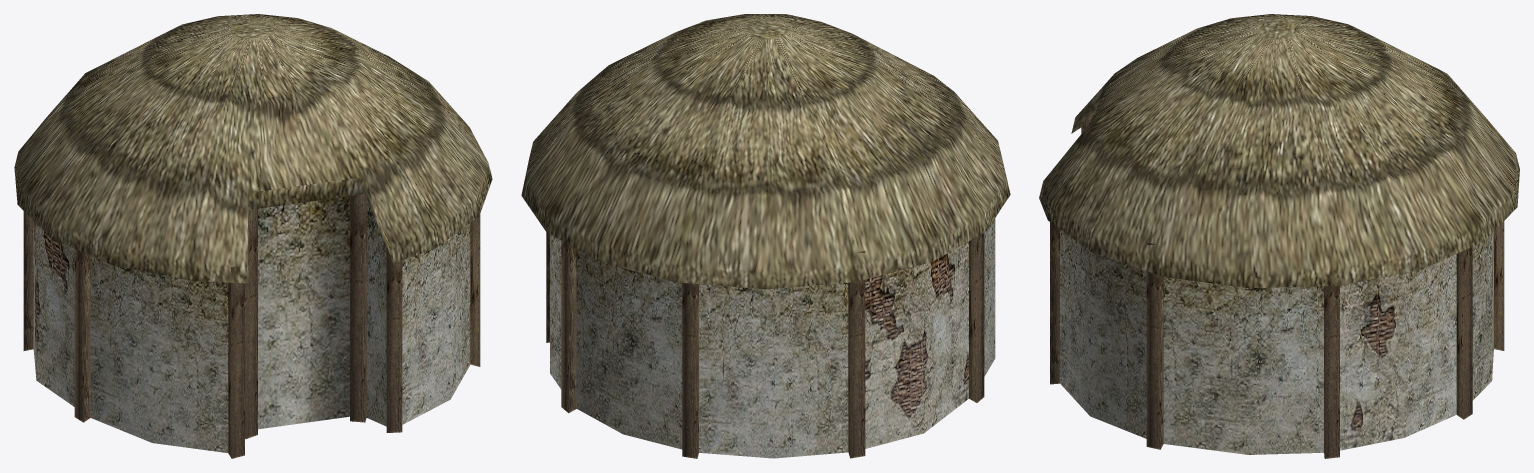
The model's file is celt_hut.dae.
3 views of the same model, side by side, from view 1: azimuth 30°, elevation 25°; view 2: azimuth 150°, elevation 25°; view 3: azimuth 270°, elevation 25° (orthographic). The views are drawn at different scales.
Visible parts, largest first — view 1: hut-Pivot; view 2: hut-Pivot; view 3: hut-Pivot.
Boxes of the visible parts, bbox=[...] form: hut-Pivot: bbox=[14, 14, 492, 458]; hut-Pivot: bbox=[521, 14, 1010, 458]; hut-Pivot: bbox=[1039, 14, 1519, 458].
Size of the model in its own units: 7.01 by 6.93 by 5.33.
